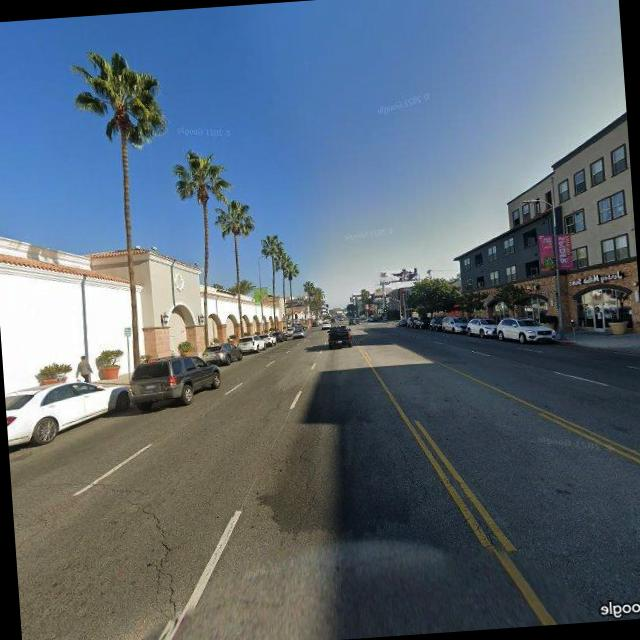pothole: (125, 490, 187, 620), (383, 422, 432, 512)
